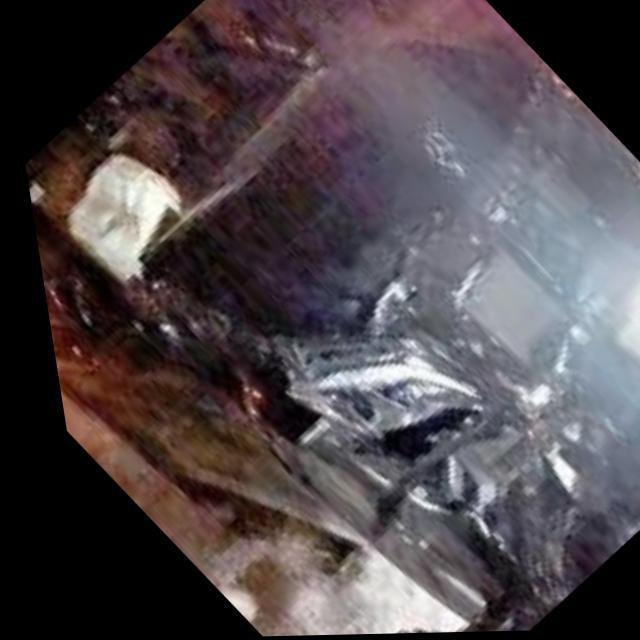crash: (122, 40, 640, 635)
